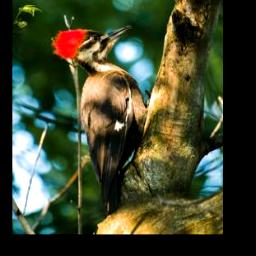Woodpecker: (52, 23, 158, 216)
